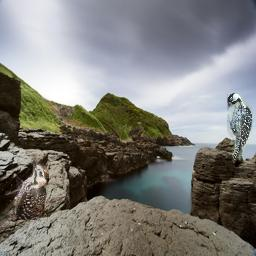Woodpecker: (5, 153, 49, 220), (227, 93, 253, 163)
